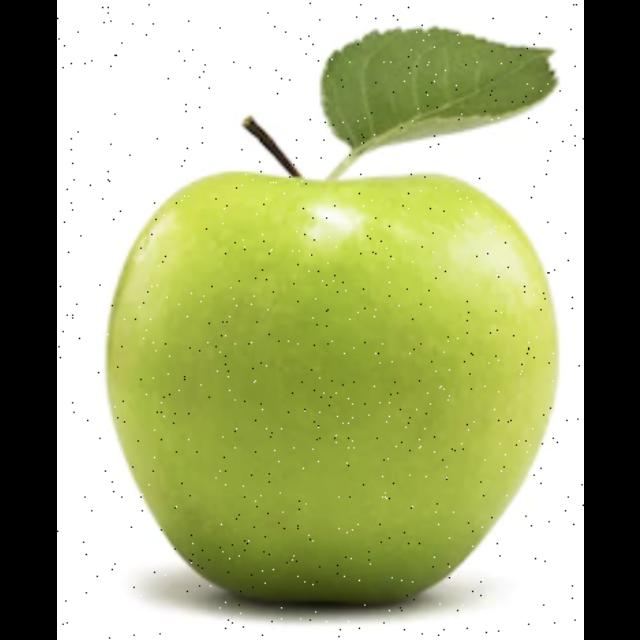Apel Segar: (101, 171, 561, 610)
